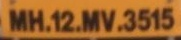character: (8, 9, 27, 32), (81, 9, 99, 32), (28, 9, 44, 32), (100, 8, 115, 32), (122, 9, 136, 32), (161, 7, 175, 30), (60, 10, 74, 32), (137, 8, 150, 31), (150, 8, 160, 30), (50, 10, 59, 32)
